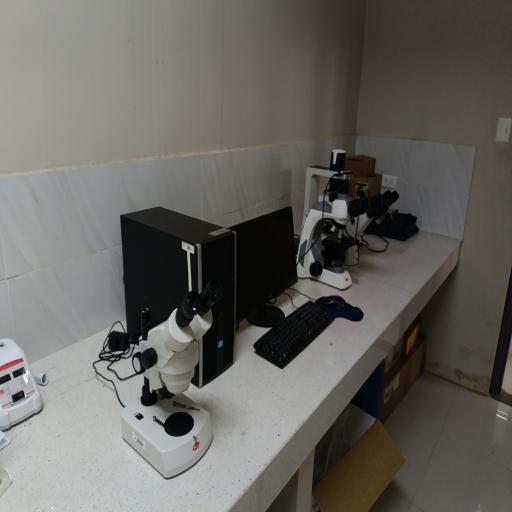Microscopio_estereo: (101, 272, 236, 482)
